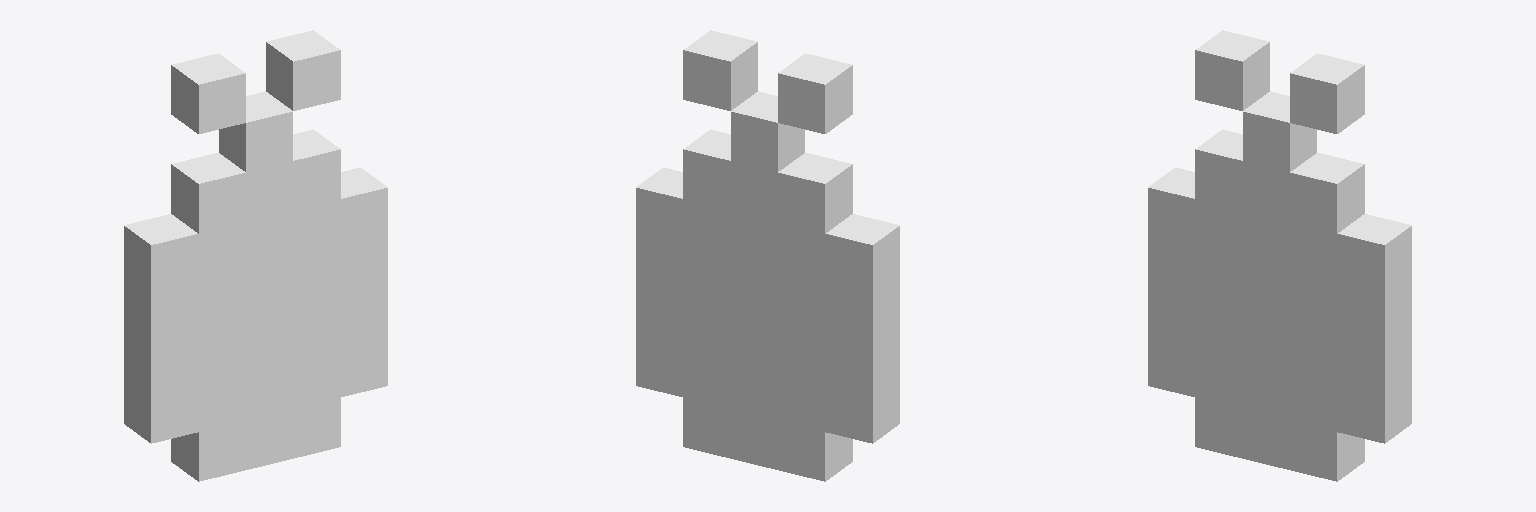
The model's file is moneyBag_v1.obj.
3 views of the same model, side by side, from view 1: azimuth 30°, elevation 25°; view 2: azimuth 150°, elevation 25°; view 3: azimuth 330°, elevation 25° (orthographic).
Visible parts, largest first — view 1: moneyBag_v1; view 2: moneyBag_v1; view 3: moneyBag_v1.
Boxes of the visible parts, x1=… form: moneyBag_v1: x1=124, y1=30, x2=387, y2=481; moneyBag_v1: x1=636, y1=30, x2=899, y2=481; moneyBag_v1: x1=1148, y1=30, x2=1411, y2=481.
Bounding box in the file's own units: 5 × 8 × 1.